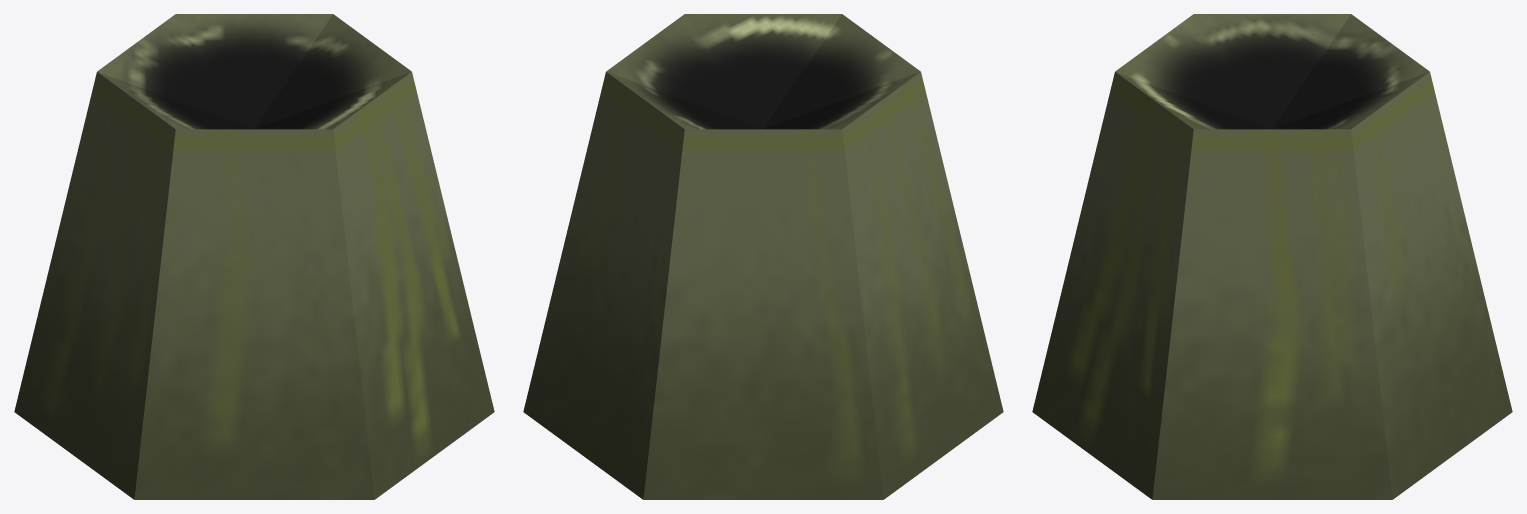
File: Barnacle2.fbx
The picture shows the model from 3 angles, left to right: view 1: azimuth 30°, elevation 25°; view 2: azimuth 150°, elevation 25°; view 3: azimuth 270°, elevation 25°; orthographic projection.
Visible parts, largest first — view 1: Barnacle2; view 2: Barnacle2; view 3: Barnacle2.
Boxes of the visible parts, x1,y1,x2,y2 form: Barnacle2: [14, 14, 494, 499]; Barnacle2: [523, 14, 1003, 499]; Barnacle2: [1032, 14, 1512, 499].
Bounding box in the file's own units: 25.39 × 22.92 × 29.32.
